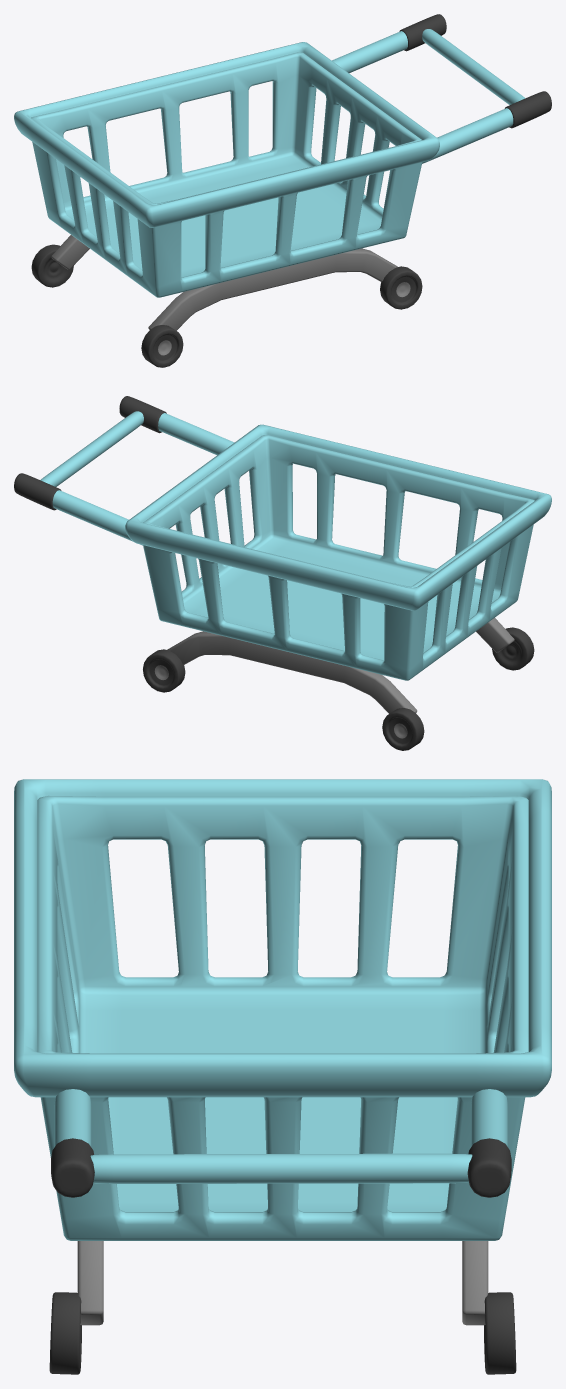
File: Shopping_Cart.fbx
The picture shows the model from 3 angles, top to bottom: view 1: azimuth 30°, elevation 25°; view 2: azimuth 150°, elevation 25°; view 3: azimuth 270°, elevation 25°; orthographic projection. The views are drawn at different scales.
Visible parts, largest first — view 1: Cube; view 2: Cube; view 3: Cube.
Part boxes in pixels (left/top/right/bottom): Cube: left=14, top=14, right=551, bottom=367; Cube: left=14, top=396, right=551, bottom=750; Cube: left=14, top=779, right=551, bottom=1374.
Bounding box in the file's own units: 473 × 194 × 269.
